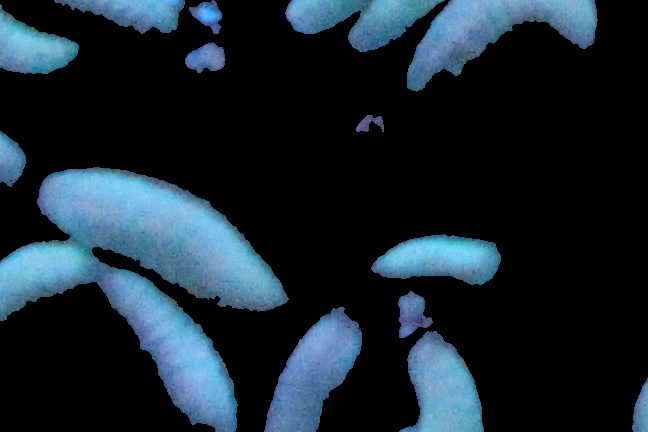larvae: (36, 170, 289, 322), (88, 266, 239, 432), (402, 1, 596, 113), (263, 312, 367, 432), (398, 338, 485, 432), (1, 242, 90, 327), (347, 1, 481, 57), (369, 236, 502, 288), (1, 6, 80, 81), (60, 1, 187, 36), (284, 1, 415, 34)
